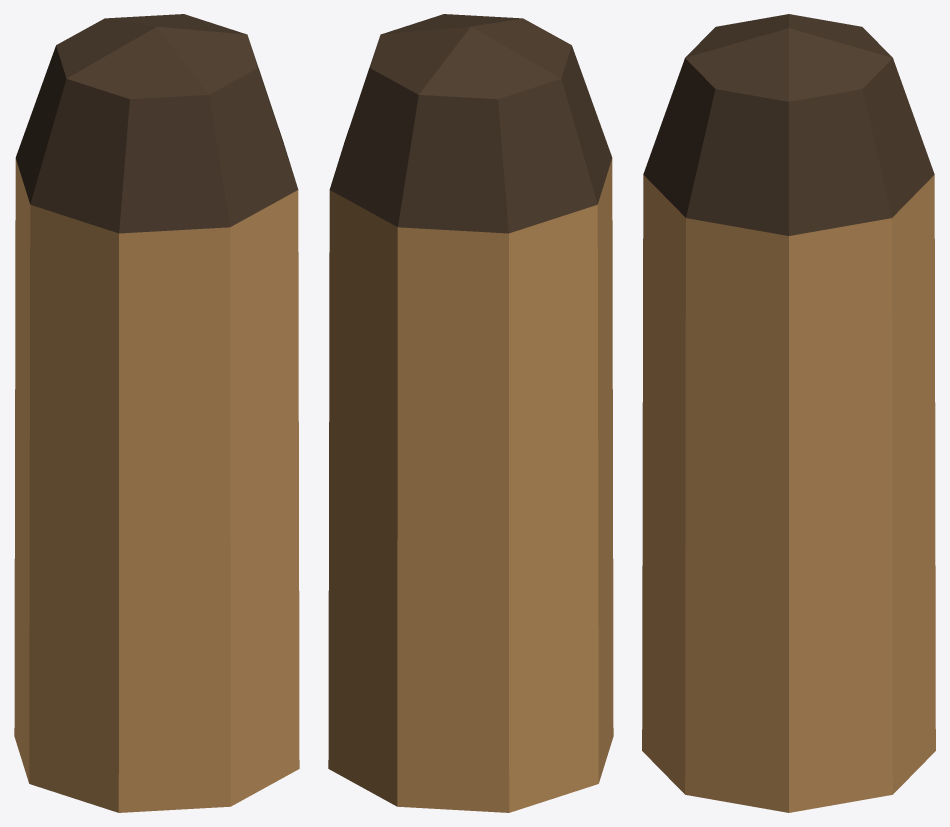
Rendered from pistol-bullet.glb.
The picture shows the model from 3 angles, left to right: view 1: azimuth 30°, elevation 25°; view 2: azimuth 150°, elevation 25°; view 3: azimuth 270°, elevation 25°; orthographic projection.
Parts seen in each view (by area): view 1: pistol-bullet; view 2: pistol-bullet; view 3: pistol-bullet.
Boxes of the visible parts, bbox=[...] form: pistol-bullet: bbox=[14, 14, 299, 812]; pistol-bullet: bbox=[328, 14, 613, 812]; pistol-bullet: bbox=[642, 14, 935, 812].
Bounding box in the file's own units: 0.0184 × 0.05 × 0.0184.
Materials: 1 (1 with a texture image).
